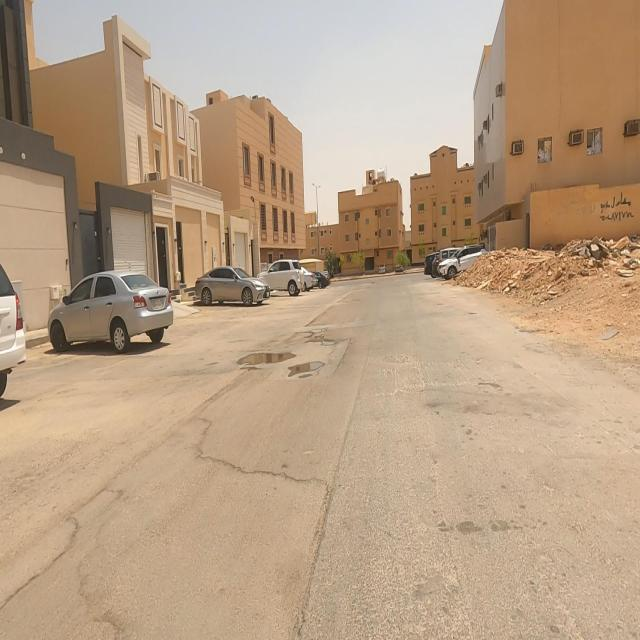Graffiti: (602, 194, 634, 222)
